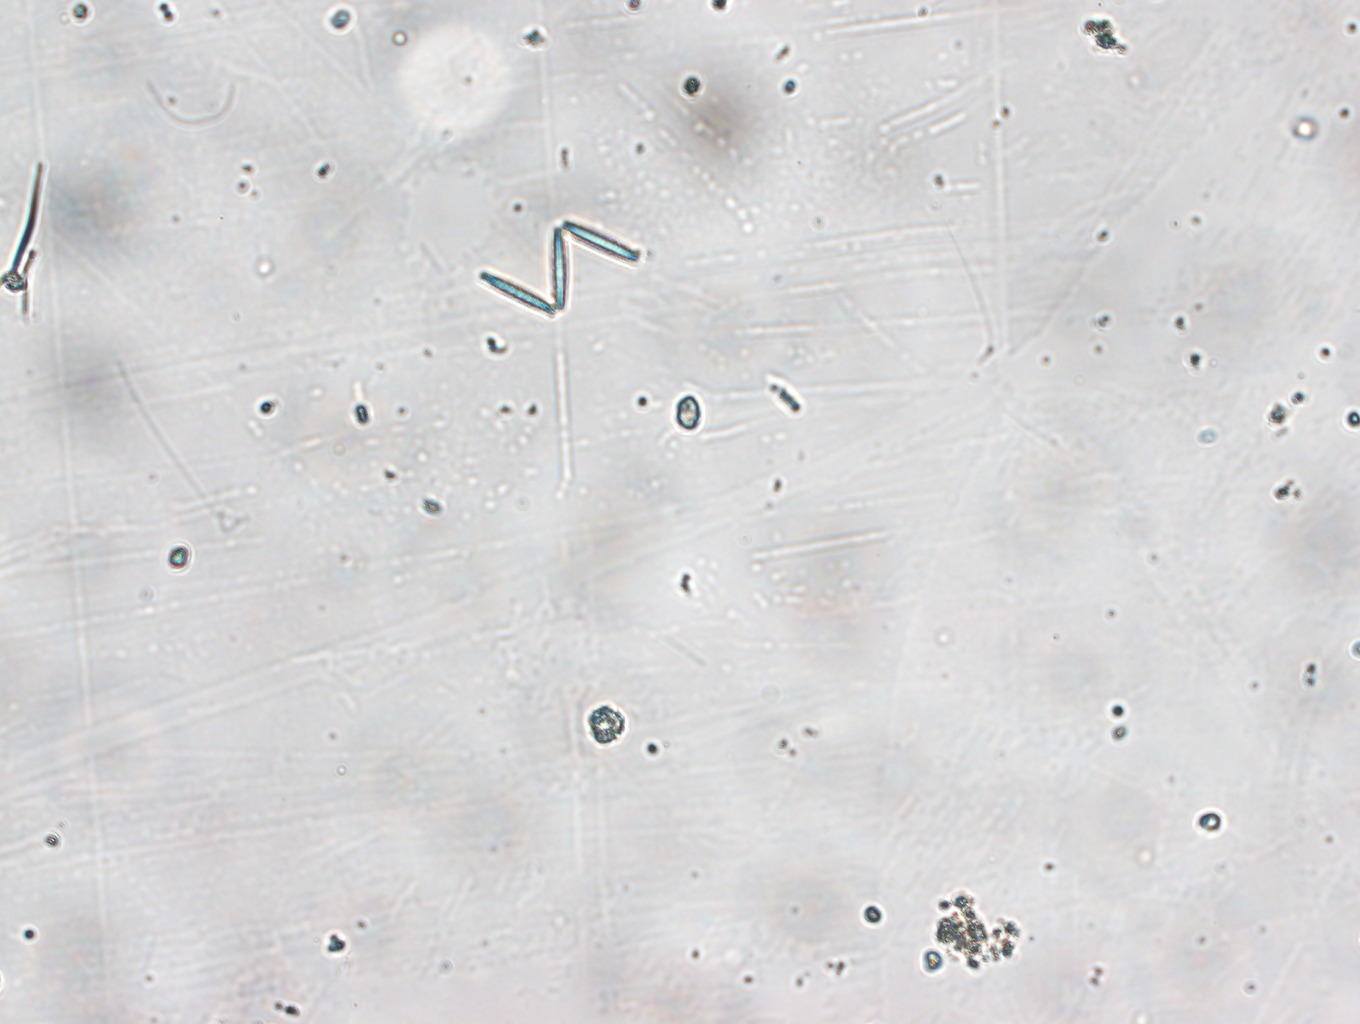thalassionema nitzschioides: (473, 214, 657, 325)
